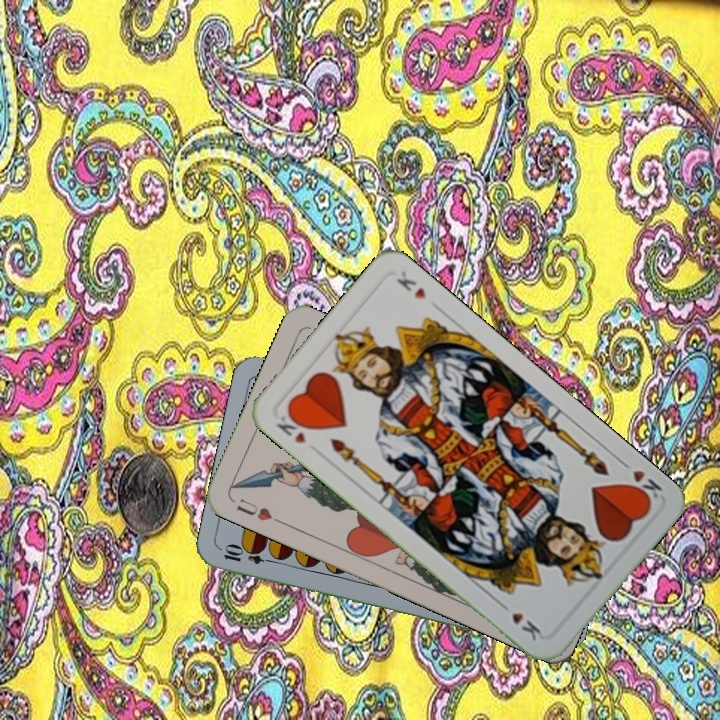E10: (220, 544, 279, 567)
HK: (623, 465, 665, 506), (272, 408, 312, 446)
HU: (232, 494, 285, 526)
